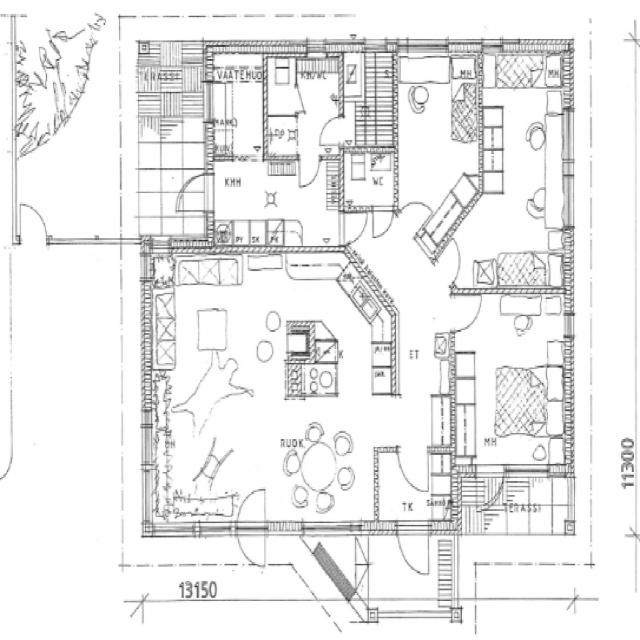door: (395, 189, 433, 239), (434, 237, 471, 287), (397, 521, 428, 577), (476, 464, 505, 515), (176, 174, 214, 212), (238, 521, 265, 572), (238, 485, 265, 535), (398, 447, 428, 492), (451, 296, 483, 332), (20, 204, 46, 244), (339, 213, 369, 246), (298, 156, 320, 190), (318, 117, 344, 145), (373, 205, 392, 237), (296, 86, 318, 113)
